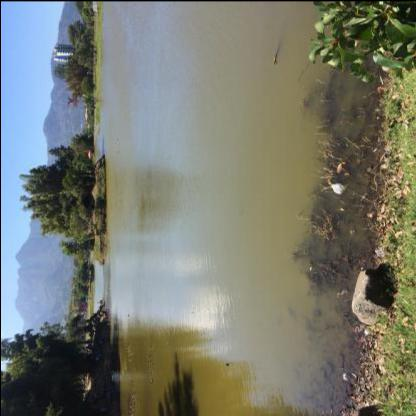Other plastic: (342, 372, 348, 378)
Plastic bag - wrapper: (331, 182, 345, 193)
